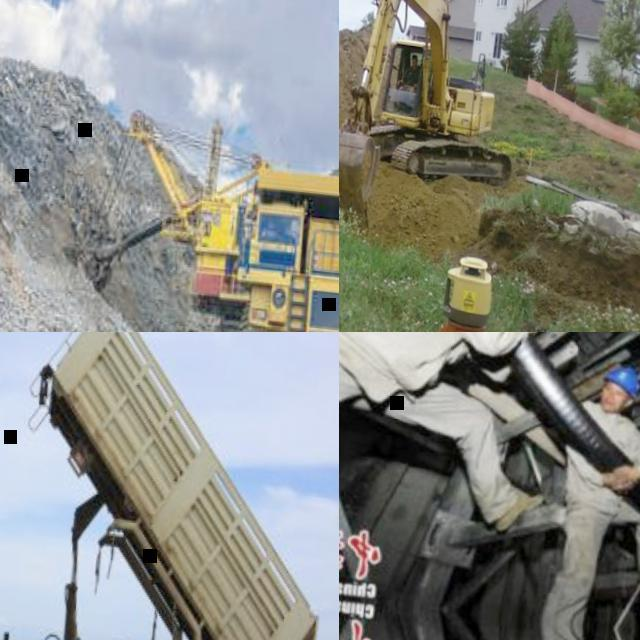Helmet: (598, 357, 640, 403)
Robbery: (334, 328, 551, 553), (567, 361, 640, 640)
